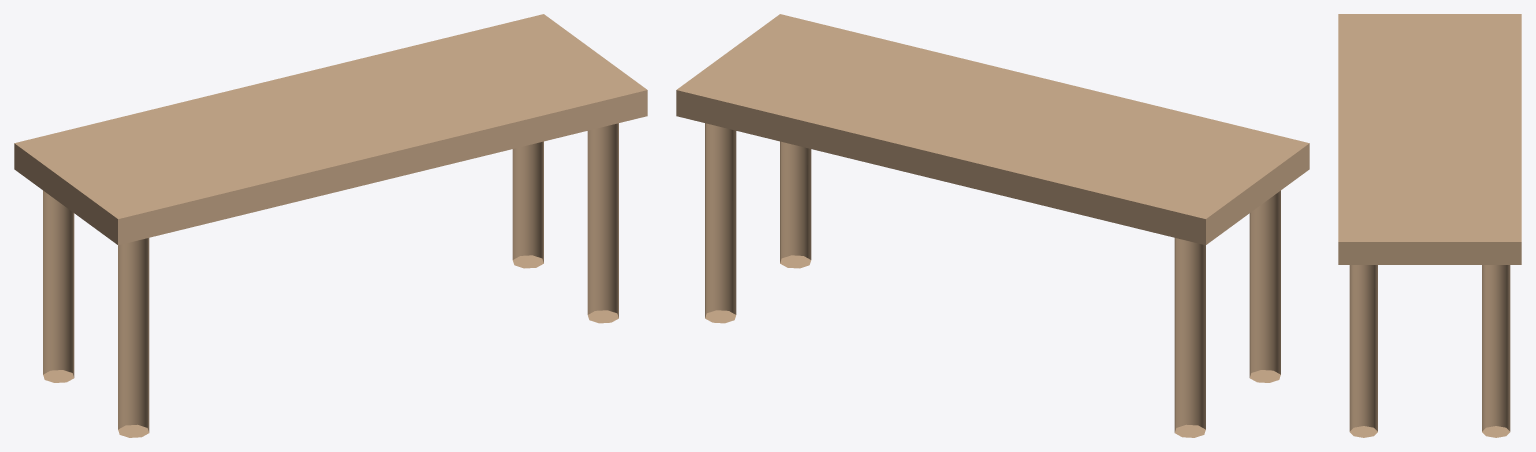
The model's file is bench_02.glb.
3 renders of one model, left to right at view 1: azimuth 30°, elevation 25°; view 2: azimuth 150°, elevation 25°; view 3: azimuth 270°, elevation 25°, orthographic. The views are drawn at different scales.
Bounding box in the file's own units: 1.06 × 0.44 × 0.36.
